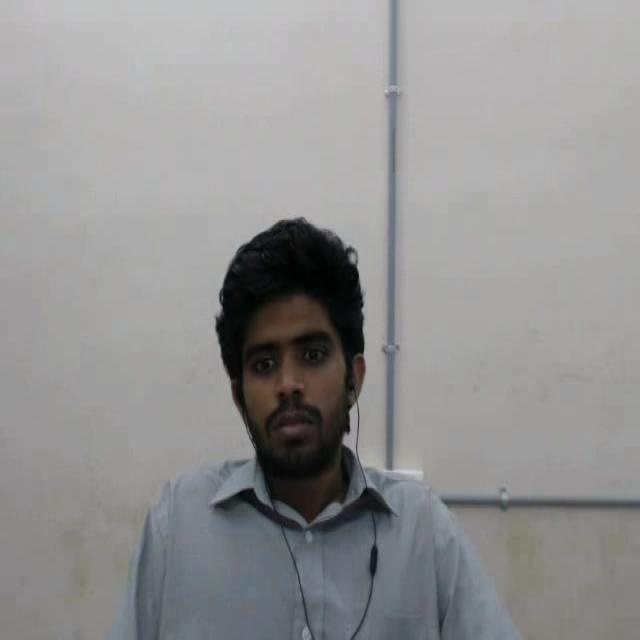Engaged: (176, 201, 418, 522)
